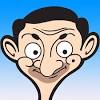mrbean: (1, 6, 99, 100)
